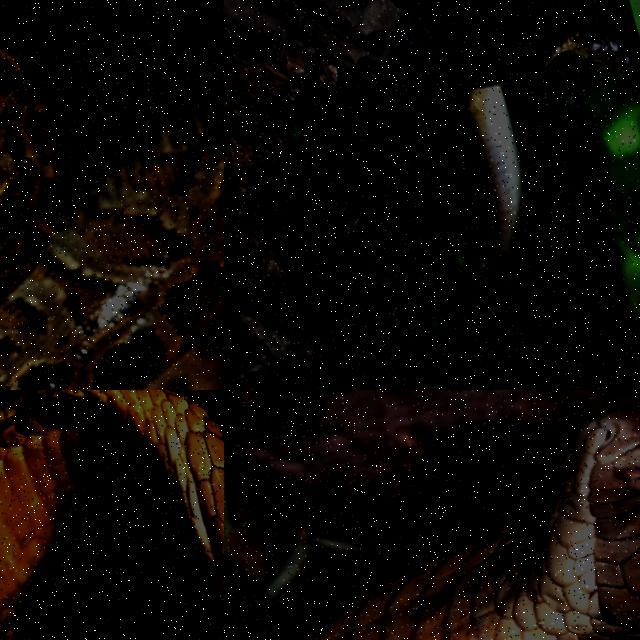Naja kaouthia: (382, 0, 639, 260)
Ophiophagus hannah: (293, 407, 639, 639), (0, 390, 223, 639)
Python bivittatus: (0, 27, 223, 389)
snake: (0, 27, 223, 389), (293, 407, 639, 639), (382, 0, 639, 260), (0, 390, 223, 639)
